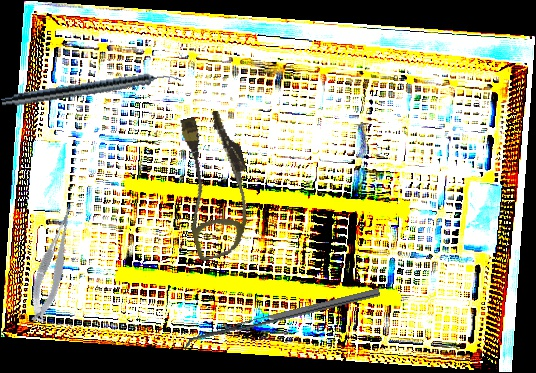Cannula: (163, 106, 267, 263)
Handpiece: (0, 67, 182, 112)
Micro Scissor: (19, 202, 89, 326)
Spatula Surgical: (181, 288, 383, 353)
